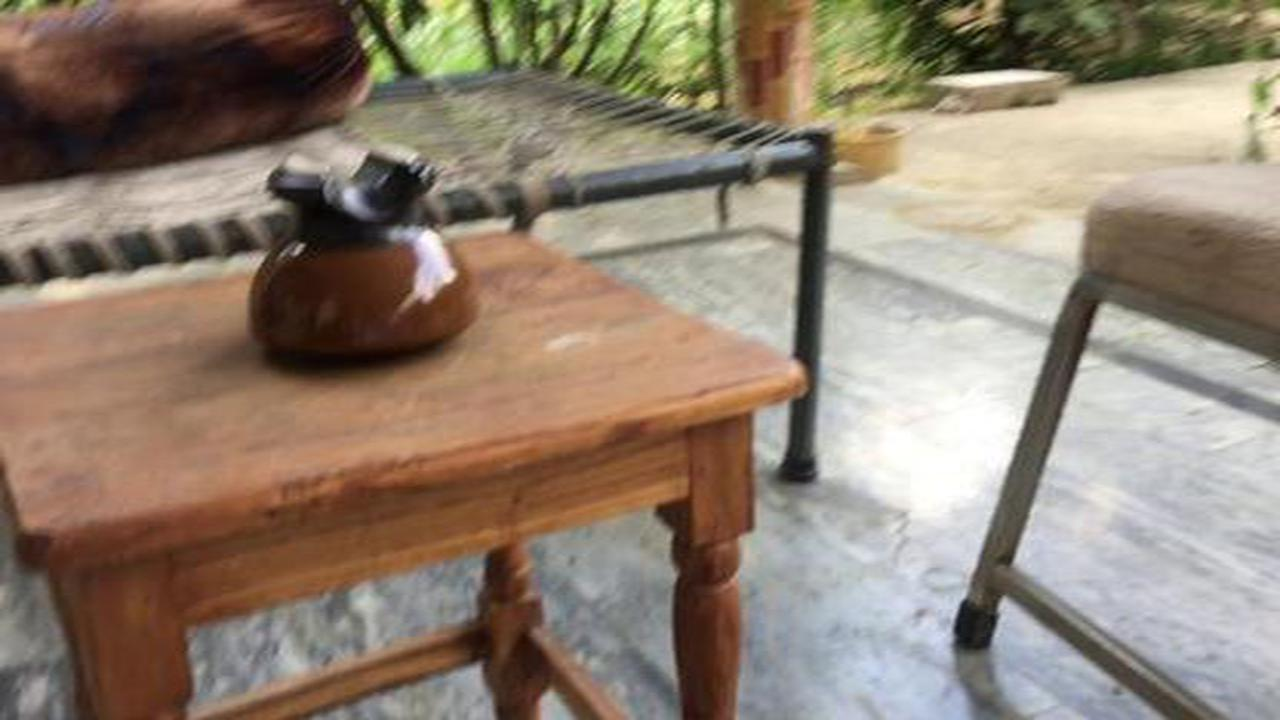insulator_pin: (228, 132, 490, 380)
